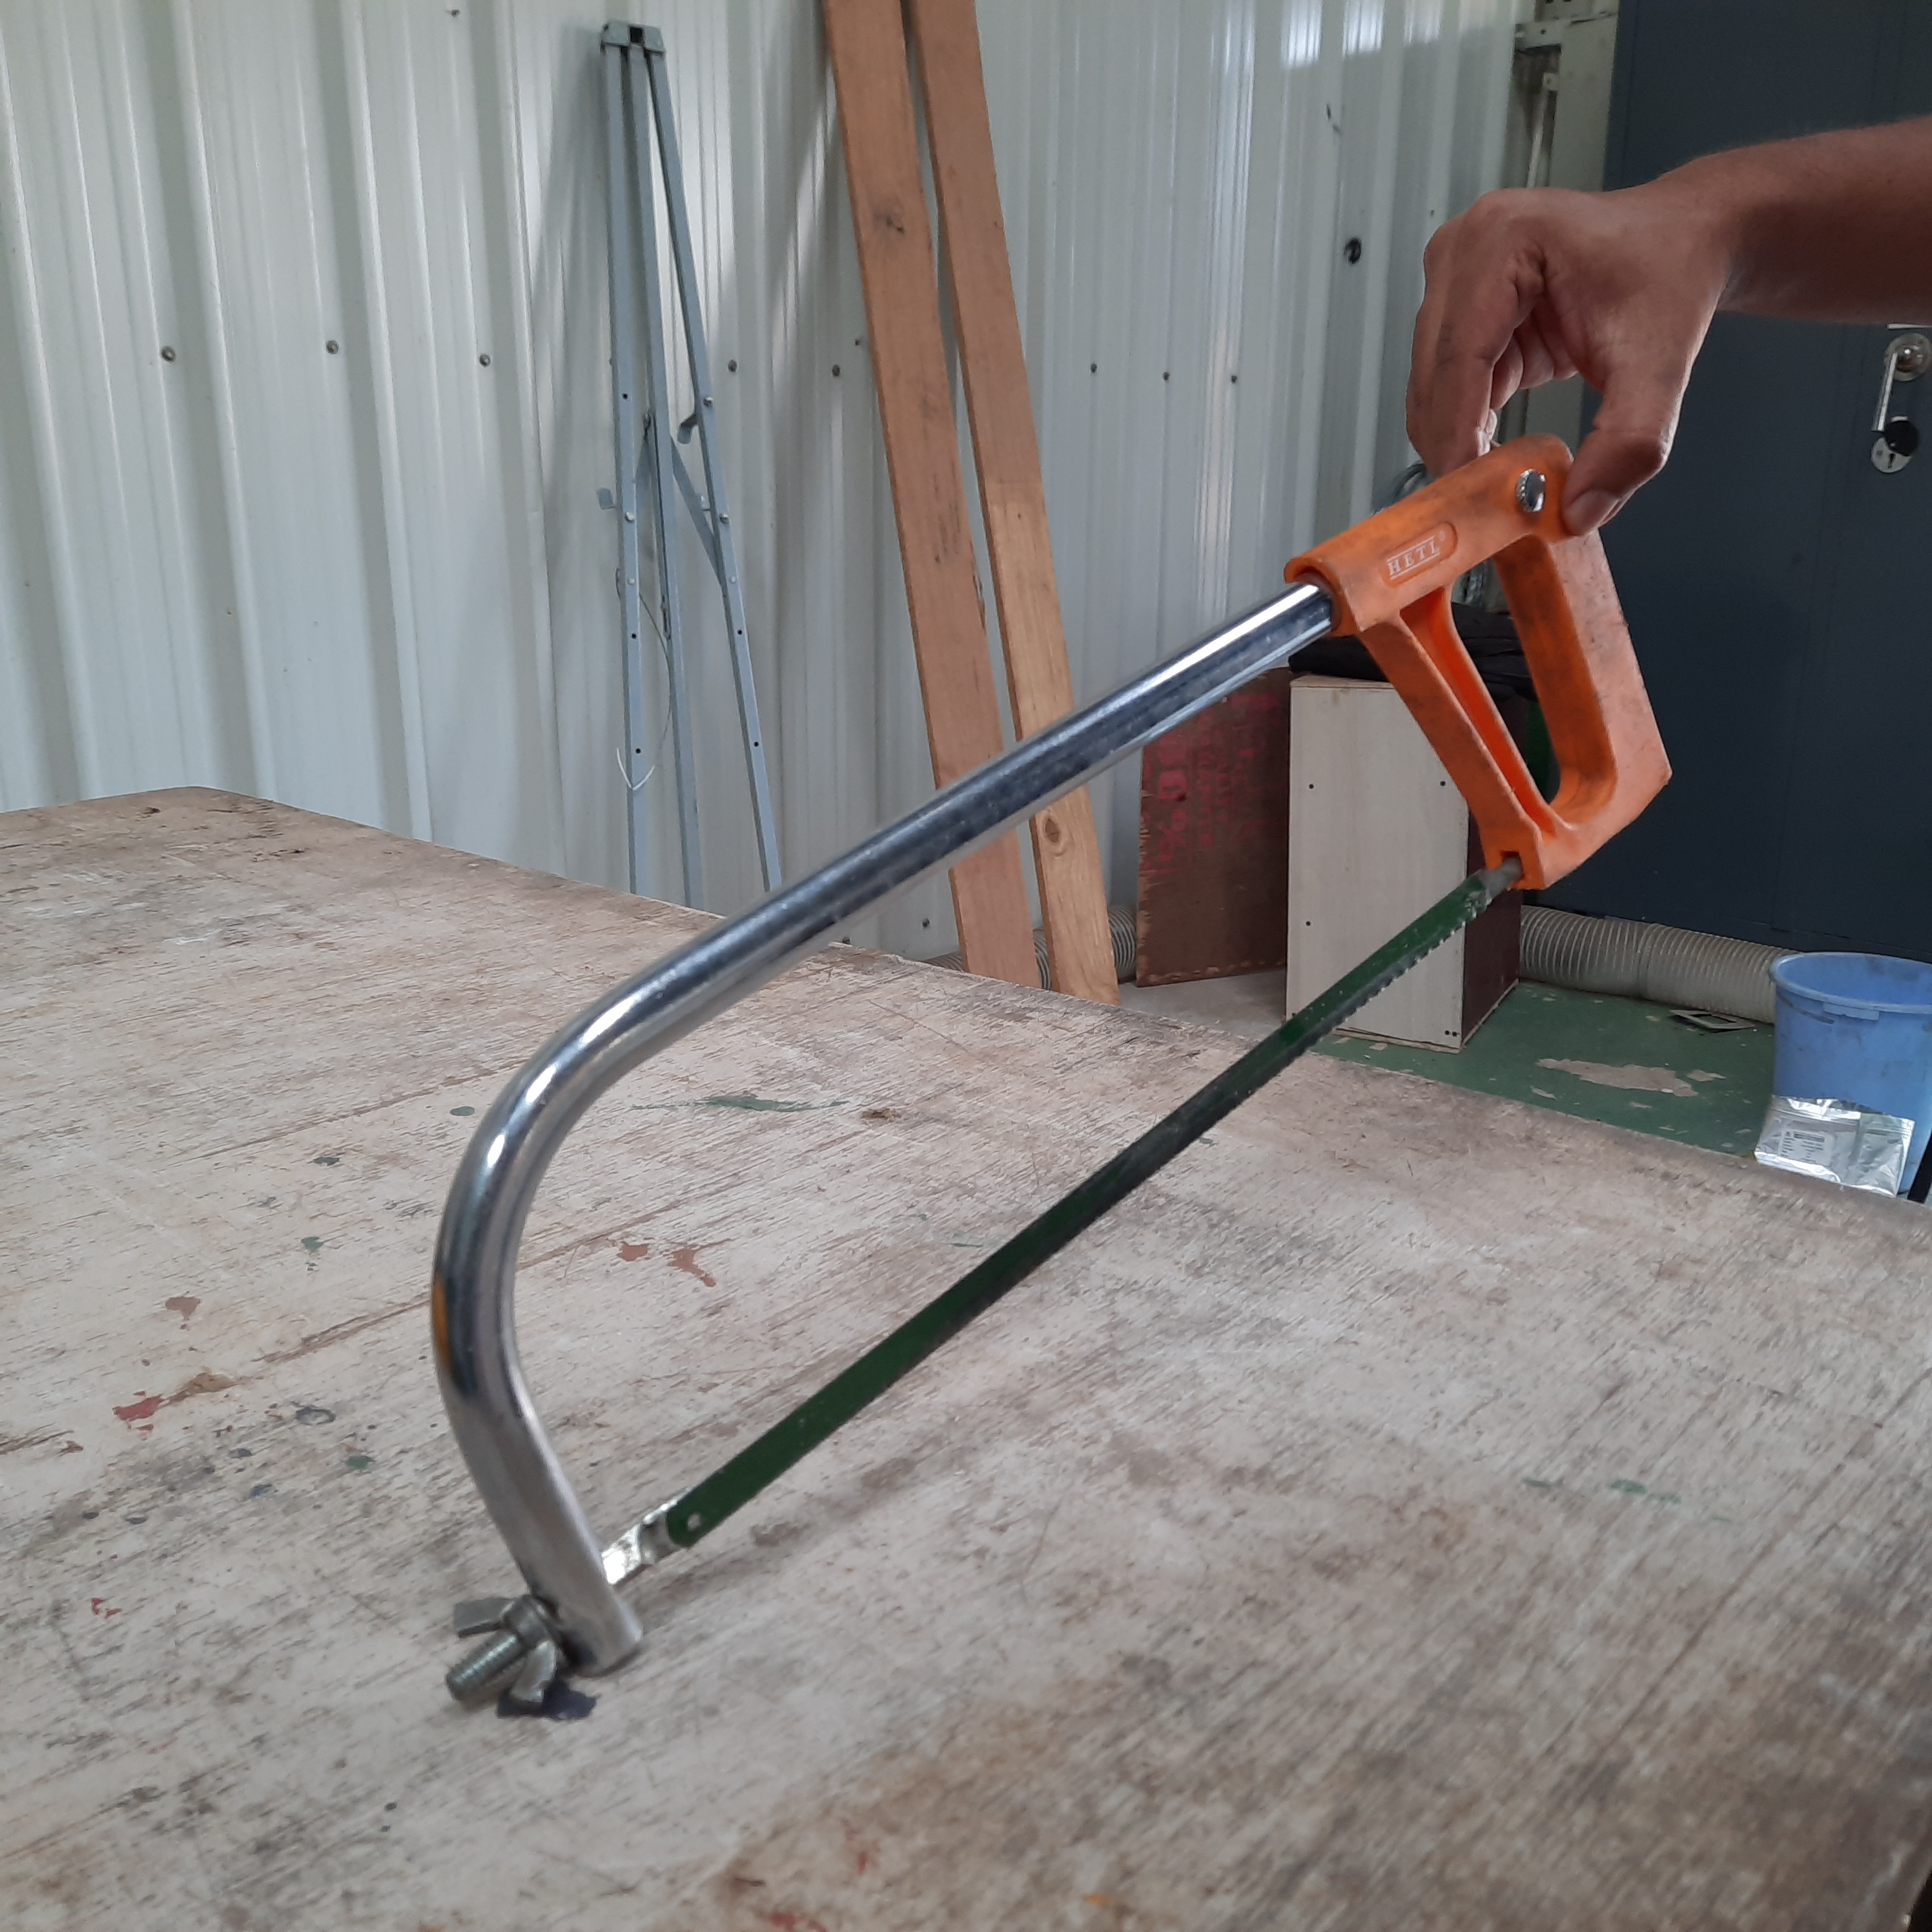Hexaframe: (382, 421, 1702, 1803)
